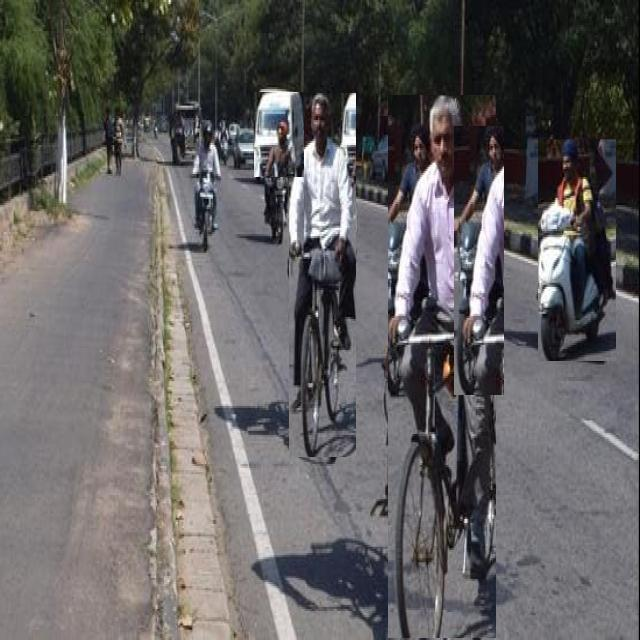bicycle: (388, 95, 495, 638), (289, 94, 356, 457)
emergency: (254, 92, 304, 177)
motorcycle: (538, 140, 615, 361), (454, 127, 504, 395)
